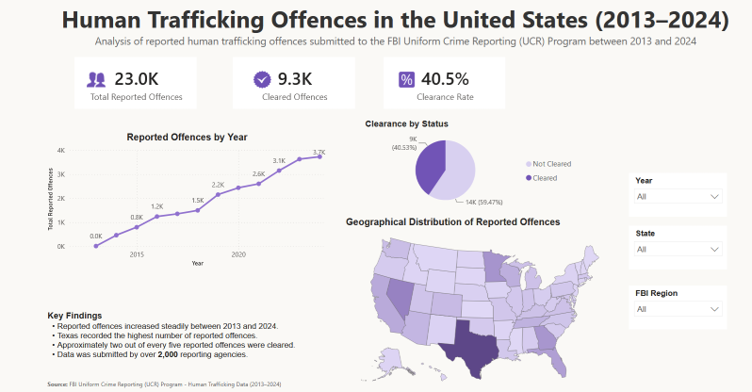

The page's visual inventory and layout, read from the dashboard file:
{"tool":"powerbi","page":{"name":"Executive Overview","canvas":[1280,720],"ordinal":0},"visuals":[{"type":"textbox","box":[10,0,1270,94],"z":0},{"type":"cardVisual","fields":{"Data":["Human_Trafficking.Total Cases"]},"box":[50,100,234,105],"z":1000},{"type":"cardVisual","fields":{"Data":["Human_Trafficking.Total Cleared"]},"box":[341,100,234,105],"z":2000},{"type":"cardVisual","fields":{"Data":["Human_Trafficking.Clearance Rate"]},"box":[617,100,234,105],"z":3000},{"type":"lineChart","title":"Reported Offences by Year","fields":{"Category":["DimYear.DATA_YEAR"],"Y":["Human_Trafficking.Total Reported Offenses"]},"box":[0,242,523,253],"z":4000},{"type":"shapeMap","title":"Geographical Distribution of Reported Offences","fields":{"Category":["DimState.STATE_NAME"],"Value":["Human_Trafficking.Total Reported Offenses"]},"box":[548,398,503,322],"z":5000},{"type":"slicer","fields":{"Values":["DimYear.DATA_YEAR"]},"box":[1073,318,180,80],"z":6000},{"type":"slicer","fields":{"Values":["DimState.state_name"]},"box":[1073,415,180,80],"z":7000},{"type":"slicer","fields":{"Values":["Human_Trafficking.REGION_NAME"]},"box":[1073,525,180,80],"z":8000},{"type":"textbox","box":[0,690,496,30],"z":9000},{"type":"textbox","box":[0,565,548,125],"z":10000},{"type":"image","box":[69,129,50,35],"z":11000},{"type":"image","box":[375,129,50,35],"z":12000},{"type":"image","box":[640,129,50,35],"z":13000},{"type":"pieChart","fields":{"Category":["Clearance Status.Status"],"Y":["Human_Trafficking.Clearance Status Value"]},"box":[583,218,399,171],"z":13001}]}

Visuals, with their boxes on the page's 1280x720 design canvas (x1, y1, x2, y2). These are canvas units, not pixel positions in the 752x392 screenshot, which may show the page scaled, cropped or inside an application window:
textbox: bbox=(10, 0, 1280, 94)
cardVisual - Human_Trafficking.Total Cases: bbox=(50, 100, 284, 205)
cardVisual - Human_Trafficking.Total Cleared: bbox=(341, 100, 575, 205)
cardVisual - Human_Trafficking.Clearance Rate: bbox=(617, 100, 851, 205)
"Reported Offences by Year" lineChart: bbox=(0, 242, 523, 495)
"Geographical Distribution of Reported Offences" shapeMap: bbox=(548, 398, 1051, 720)
slicer - DimYear.DATA_YEAR: bbox=(1073, 318, 1253, 398)
slicer - DimState.state_name: bbox=(1073, 415, 1253, 495)
slicer - Human_Trafficking.REGION_NAME: bbox=(1073, 525, 1253, 605)
textbox: bbox=(0, 690, 496, 720)
textbox: bbox=(0, 565, 548, 690)
image: bbox=(69, 129, 119, 164)
image: bbox=(375, 129, 425, 164)
image: bbox=(640, 129, 690, 164)
pieChart - Clearance Status.Status x Human_Trafficking.Clearance Status Value: bbox=(583, 218, 982, 389)
